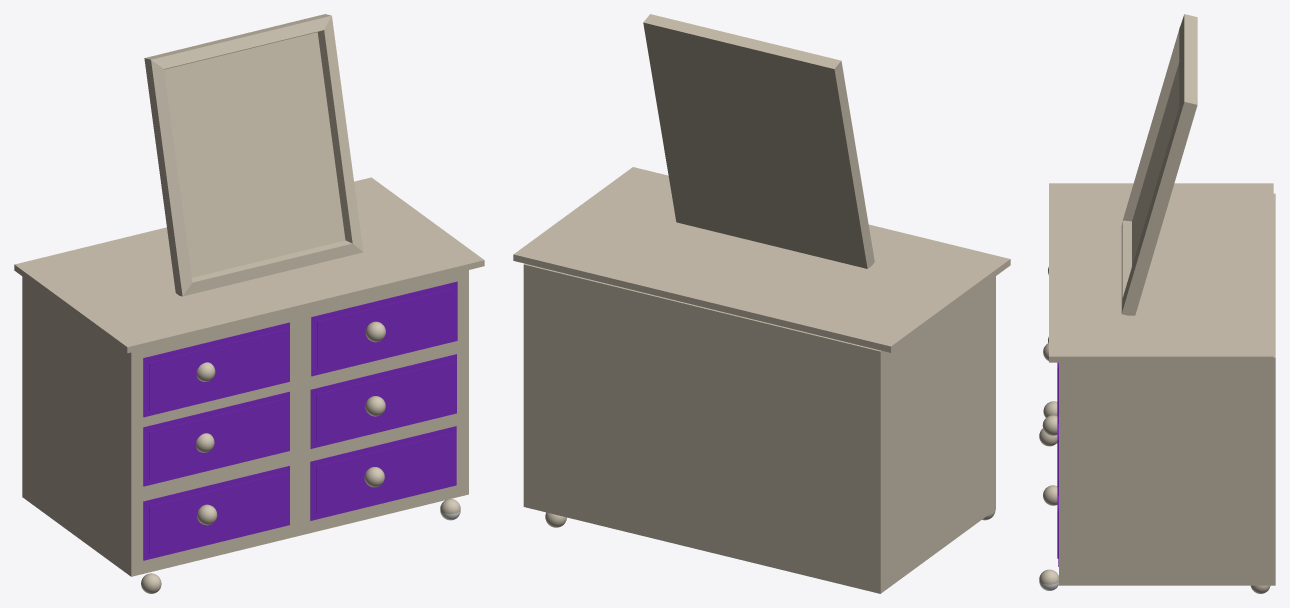
File: Dresser.fbx
3 views of the same model, side by side, from view 1: azimuth 30°, elevation 25°; view 2: azimuth 150°, elevation 25°; view 3: azimuth 270°, elevation 25° (orthographic). The views are drawn at different scales.
Visible parts, largest first — view 1: Dresser, MirrorDresser, DresserLid, Drawer001, Drawer, Drawer004, Drawer005, Drawer002, Drawer003; view 2: Dresser, MirrorDresser, DresserLid; view 3: Dresser, DresserLid, MirrorDresser.
Boxes of the visible parts, x1=… form: Dresser: x1=22, y1=270, x2=468, y2=576; MirrorDresser: x1=144, y1=14, x2=363, y2=296; DresserLid: x1=14, y1=177, x2=484, y2=353; Drawer001: x1=143, y1=391, x2=289, y2=486; Drawer: x1=143, y1=322, x2=289, y2=417; Drawer004: x1=310, y1=354, x2=456, y2=448; Drawer005: x1=310, y1=426, x2=456, y2=520; Drawer002: x1=143, y1=466, x2=289, y2=560; Drawer003: x1=311, y1=281, x2=457, y2=376; Dresser: x1=523, y1=263, x2=995, y2=593; MirrorDresser: x1=643, y1=14, x2=874, y2=268; DresserLid: x1=513, y1=167, x2=1010, y2=352; Dresser: x1=1059, y1=193, x2=1275, y2=585; DresserLid: x1=1049, y1=183, x2=1273, y2=362; MirrorDresser: x1=1121, y1=14, x2=1197, y2=315.
Bounding box in the file's own units: 72.21 × 90.71 × 41.68.
